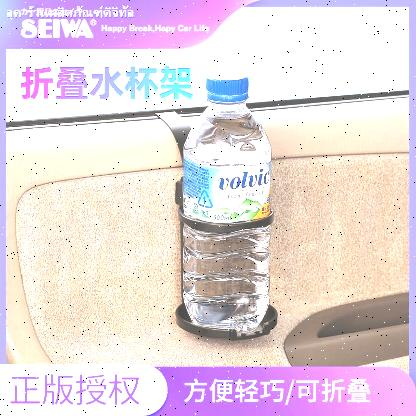Plastic Bottle: (181, 71, 273, 333)
